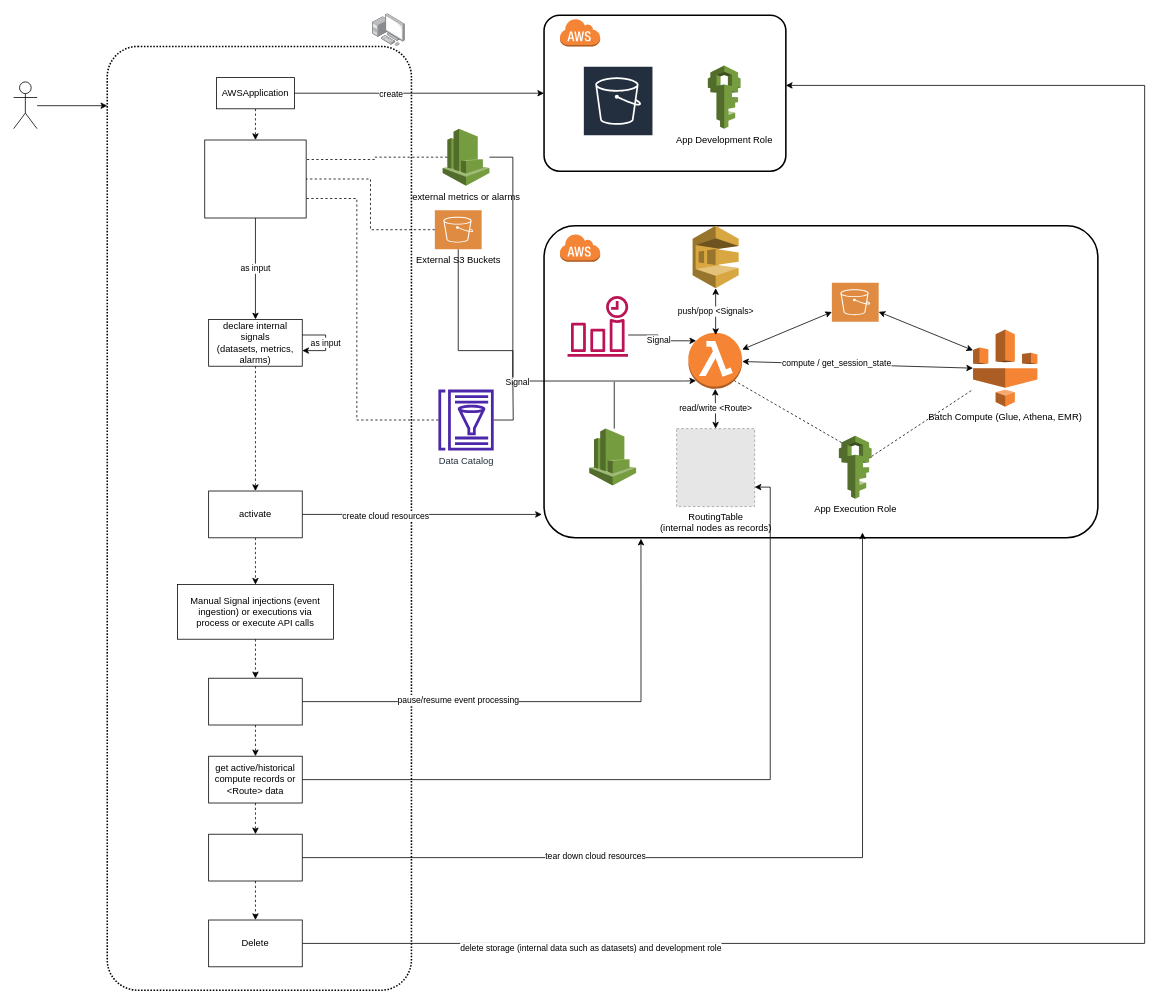
Some shapes in this 1165 by 1004 pixel diagram are drawn without their labels. Grey dashed boxes stand in for pictures. Here are the shapes that lost their labels. From the top down, the centre of each, then its label:
At (x=617, y=110): "App Storage Bucket".
At (x=255, y=178): "declare external signals (datasets [S3, GlueTable], timers, metrics, alarms)".
At (x=854, y=301): "Internal Storage".
At (x=597, y=326): "Timer 1".
At (x=612, y=457): "Internal Route/Node metrics / alarms".
At (x=255, y=701): "pause/resume".
At (x=255, y=857): "Terminate".
